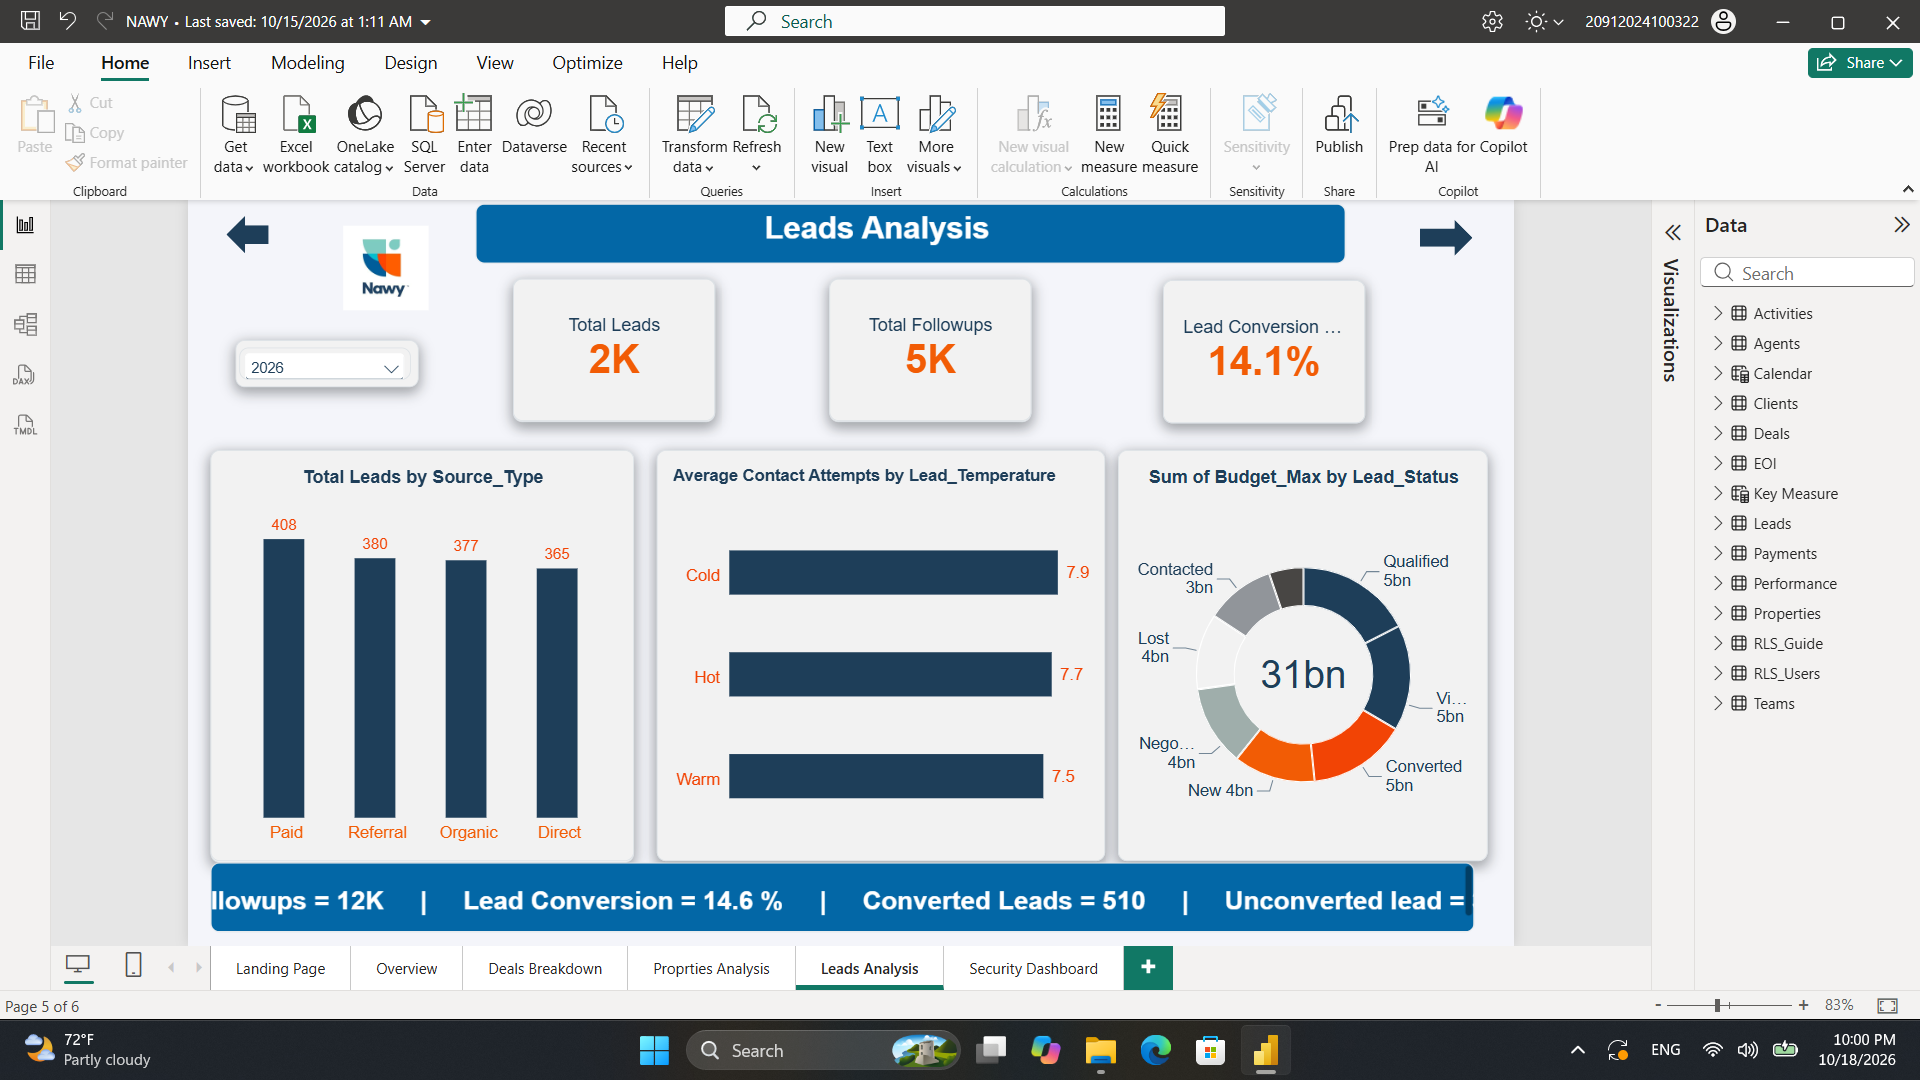

The dashboard page shown, as its layout file describes it:
{"tool":"powerbi","page":{"name":"Leads Analysis","canvas":[1280,720],"ordinal":4},"visuals":[{"type":"shape","box":[313.7,76,194.9,138.6],"z":0},{"type":"shape","box":[618.9,76,194.9,138.6],"z":1000},{"type":"shape","box":[45.8,135.1,177,45.3],"z":2000},{"type":"shape","box":[21.7,241.3,409,398.1],"z":3000},{"type":"shape","box":[452.4,241.3,433.1,396.9],"z":4000},{"type":"shape","box":[941,77.2,194.9,138.6],"z":5000},{"type":"shape","box":[897.6,241.3,357.1,396.9],"z":6000},{"type":"image","box":[114.6,9.7,153.2,112.2],"z":7000},{"type":"cardVisual","fields":{"Data":["Key Measure.Total Leads"]},"box":[313.7,74.8,195.4,138.7],"z":9000},{"type":"cardVisual","fields":{"Data":["Key Measure.Lead Conversion Rate"]},"box":[941,77.2,195.4,138.7],"z":10000},{"type":"cardVisual","fields":{"Data":["Key Measure.Total Followups Completed"]},"box":[618.9,74.8,195.4,138.7],"z":11000},{"type":"columnChart","fields":{"Category":["Leads.Source_Type"],"Y":["Key Measure.Total Leads"]},"box":[21.7,241.3,409,396.9],"z":12000},{"type":"barChart","fields":{"Category":["Leads.Lead_Temperature"],"Y":["Key Measure.Average Contact Attempts"]},"box":[452.4,241.3,433.1,396.9],"z":13000},{"type":"donutChart","fields":{"Category":["Leads.Lead_Status"],"Y":["Sum(Leads.Budget_Max)"]},"box":[897.6,241.3,357.1,396.9],"z":14000},{"type":"slicer","fields":{"Values":["Leads.Lead_Date.Variation.Date Hierarchy.Year"]},"box":[49.5,142.4,165.3,31.4],"z":15000},{"type":"shape","box":[21.7,0,71.2,66.4],"z":17000},{"type":"shape","box":[1173.9,3.6,80.8,65.1],"z":18000},{"type":"htmlContent443BE3AD55E043BF878BED274D3A6855","fields":{"content":["Key Measure.Lead Analysis"]},"box":[21.7,639.4,1219.7,67.6],"z":18001},{"type":"htmlContent443BE3AD55E043BF878BED274D3A6855","fields":{"content":["Key Measure.Leadss Analysis"]},"box":[277.5,3.6,839.7,57.9],"z":18002}]}

Visuals, with their boxes on the page's 1280x720 design canvas (x1, y1, x2, y2). These are canvas units, not pixel positions in the 1920x1080 screenshot, which may show the page scaled, cropped or inside an application window:
shape: (x1=314, y1=76, x2=509, y2=215)
shape: (x1=619, y1=76, x2=814, y2=215)
shape: (x1=46, y1=135, x2=223, y2=180)
shape: (x1=22, y1=241, x2=431, y2=639)
shape: (x1=452, y1=241, x2=886, y2=638)
shape: (x1=941, y1=77, x2=1136, y2=216)
shape: (x1=898, y1=241, x2=1255, y2=638)
image: (x1=115, y1=10, x2=268, y2=122)
cardVisual - Key Measure.Total Leads: (x1=314, y1=75, x2=509, y2=214)
cardVisual - Key Measure.Lead Conversion Rate: (x1=941, y1=77, x2=1136, y2=216)
cardVisual - Key Measure.Total Followups Completed: (x1=619, y1=75, x2=814, y2=214)
columnChart - Leads.Source_Type x Key Measure.Total Leads: (x1=22, y1=241, x2=431, y2=638)
barChart - Leads.Lead_Temperature x Key Measure.Average Contact Attempts: (x1=452, y1=241, x2=886, y2=638)
donutChart - Leads.Lead_Status x Sum(Leads.Budget_Max): (x1=898, y1=241, x2=1255, y2=638)
slicer - Leads.Lead_Date.Variation.Date Hierarchy.Year: (x1=50, y1=142, x2=215, y2=174)
shape: (x1=22, y1=0, x2=93, y2=66)
shape: (x1=1174, y1=4, x2=1255, y2=69)
htmlContent443BE3AD55E043BF878BED274D3A6855 - Key Measure.Lead Analysis: (x1=22, y1=639, x2=1241, y2=707)
htmlContent443BE3AD55E043BF878BED274D3A6855 - Key Measure.Leadss Analysis: (x1=278, y1=4, x2=1117, y2=62)
